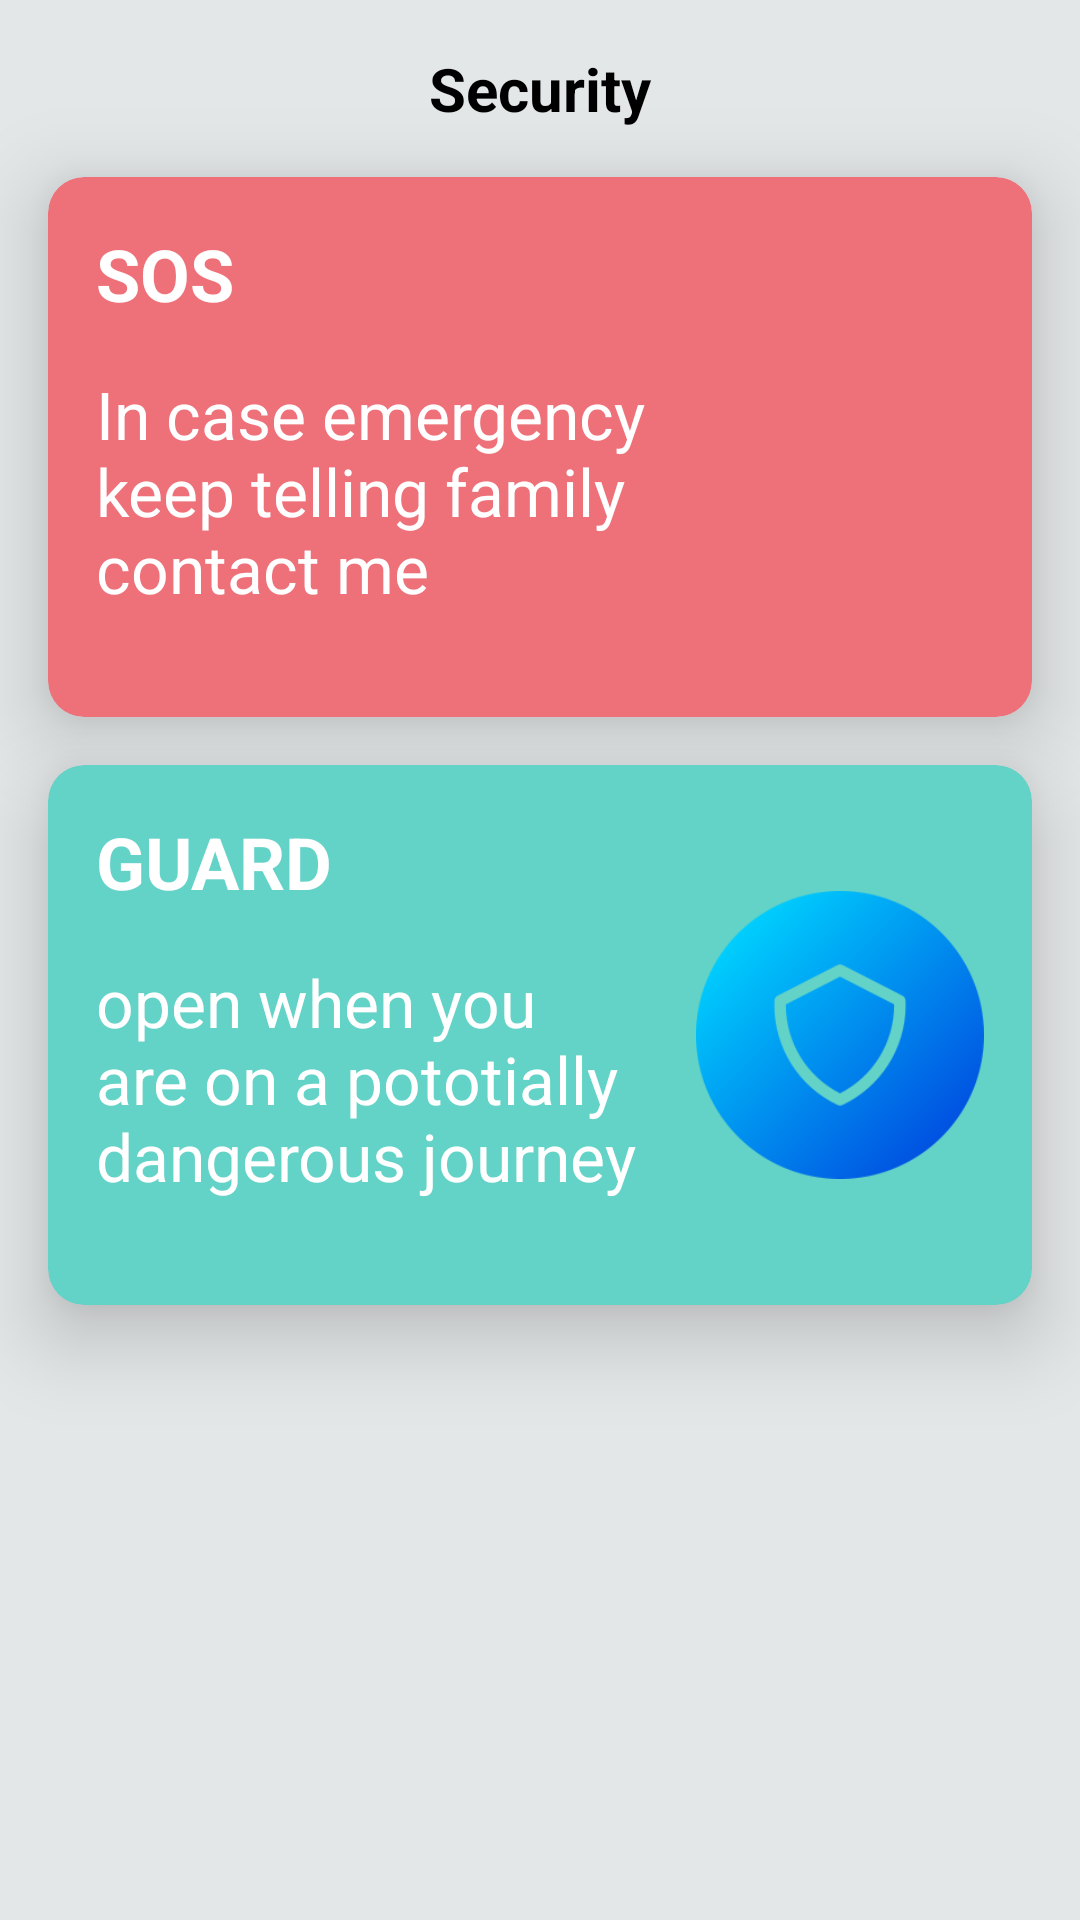

Named icons in this screenshot (1080 x 1920) and their bounding boxes, (x1, y1, x2, y2):
guard: (696, 891, 984, 1179)
